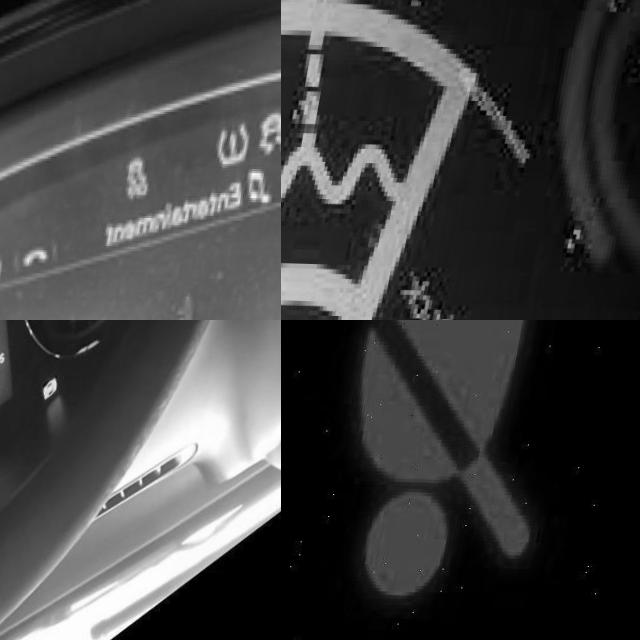High Engine Coolant Temperature: (161, 278, 245, 320)
Seat Belt: (281, 320, 640, 604)
Washer Fluid: (281, 0, 510, 320)
